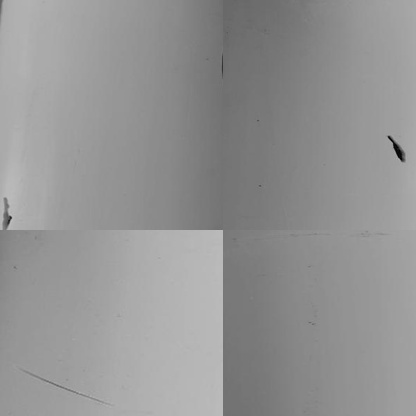fengxi: (1, 196, 15, 231)
kongdong: (383, 133, 407, 165)
sunshang: (15, 364, 109, 405)
